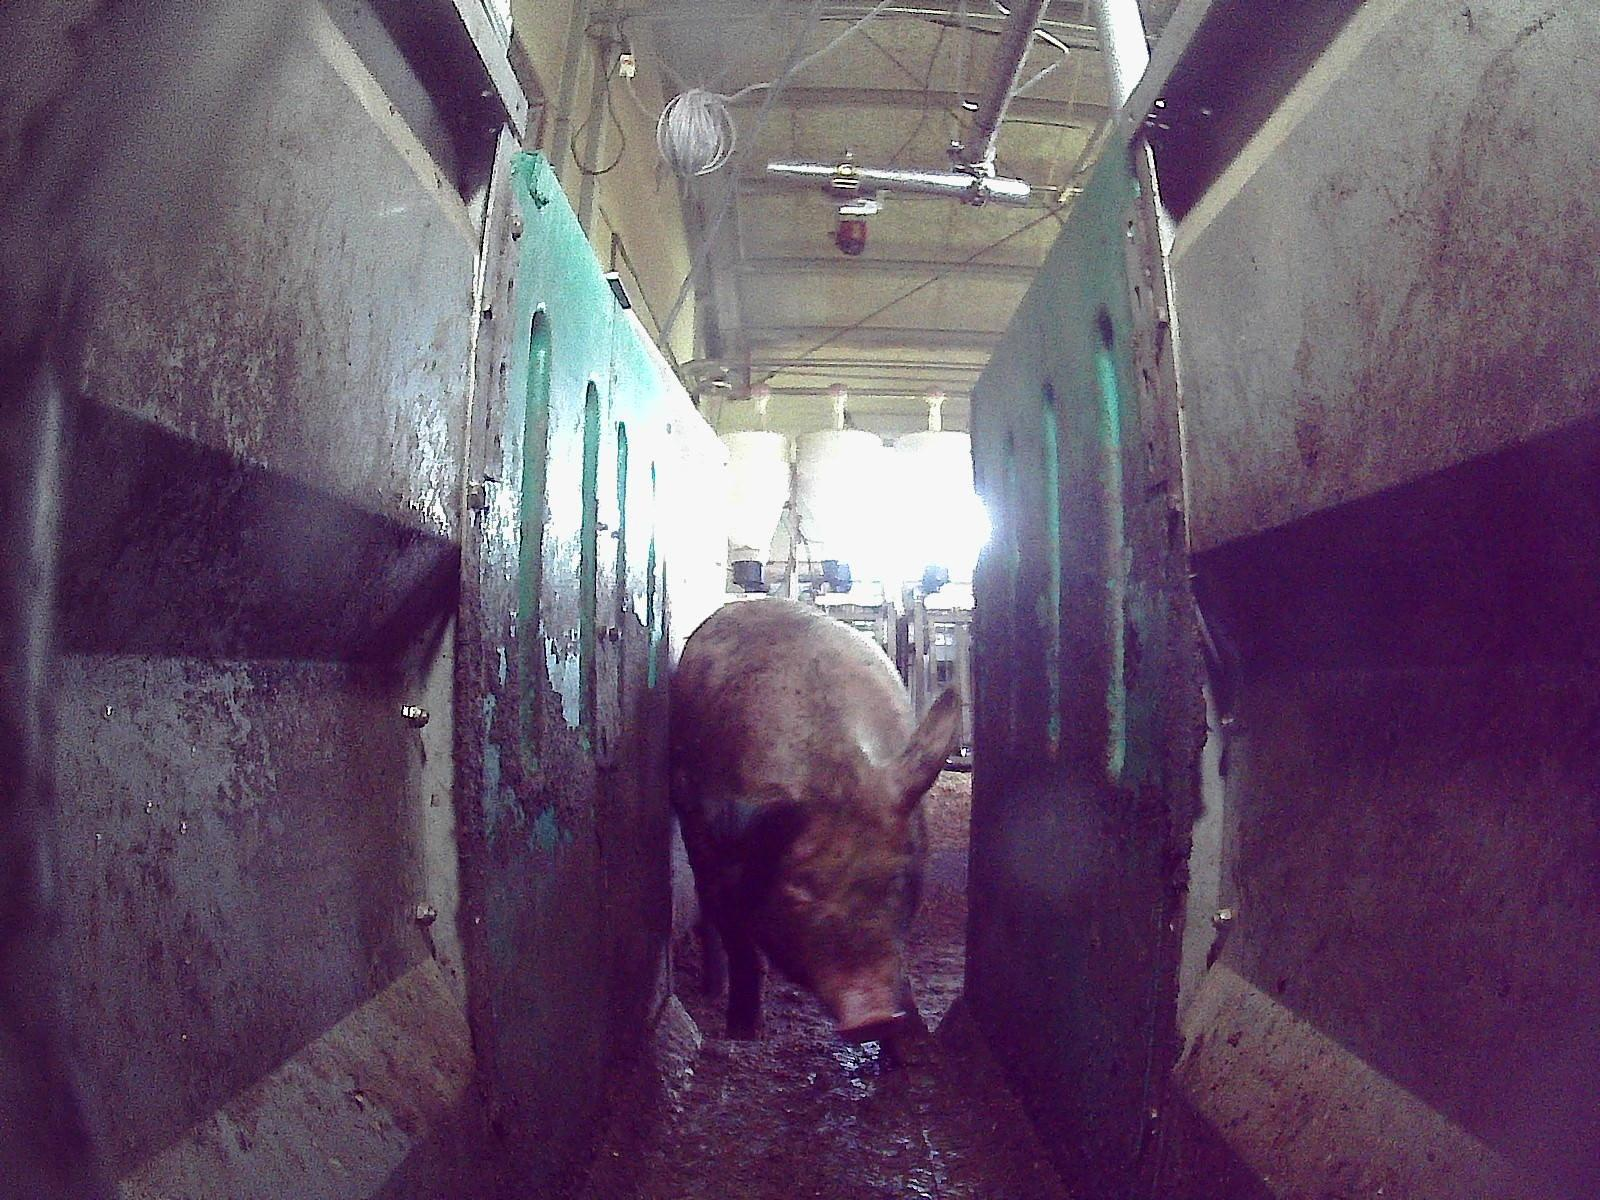Face: (744, 790, 916, 1038)
